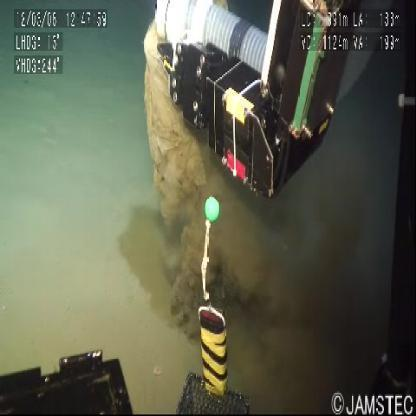Rác: (144, 25, 206, 224)
